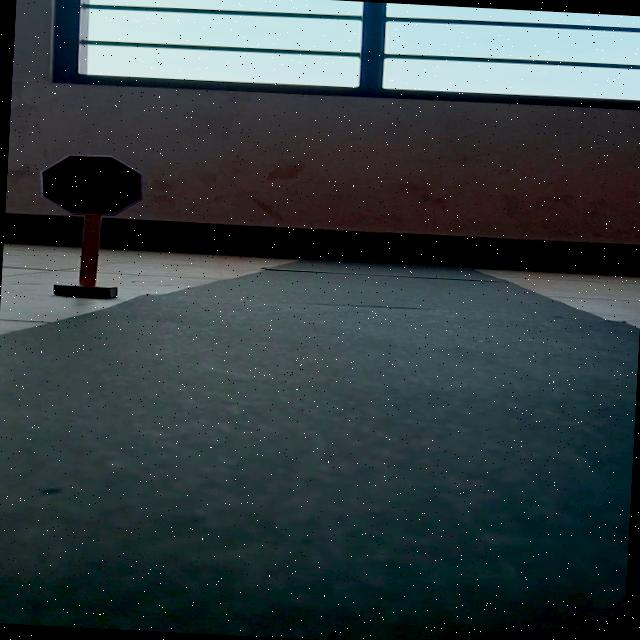Stop: (38, 153, 148, 220)
